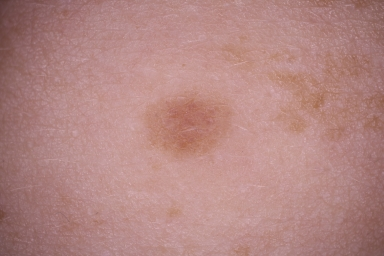melanoma: (146, 99, 229, 155)
